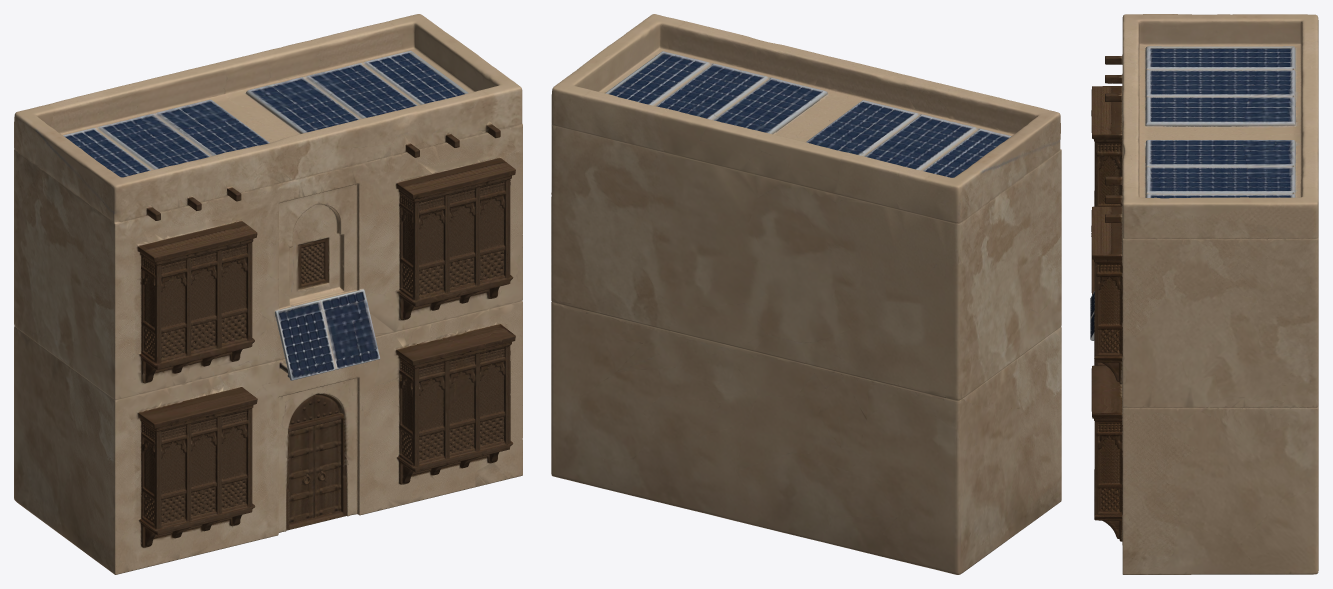
Rendered from heritage.glb.
3 renders of one model, left to right at view 1: azimuth 30°, elevation 25°; view 2: azimuth 150°, elevation 25°; view 3: azimuth 270°, elevation 25°, orthographic. The views are drawn at different scales.
Parts seen in each view (by area): view 1: mesh_node; view 2: mesh_node; view 3: mesh_node.
Part boxes in pixels (bbox=[...]): mesh_node: bbox=[14, 14, 522, 574]; mesh_node: bbox=[551, 14, 1061, 574]; mesh_node: bbox=[1090, 14, 1318, 574].
Size of the model in its own units: 1.9 by 1.73 by 0.9646.
1 material, 1 textured.
